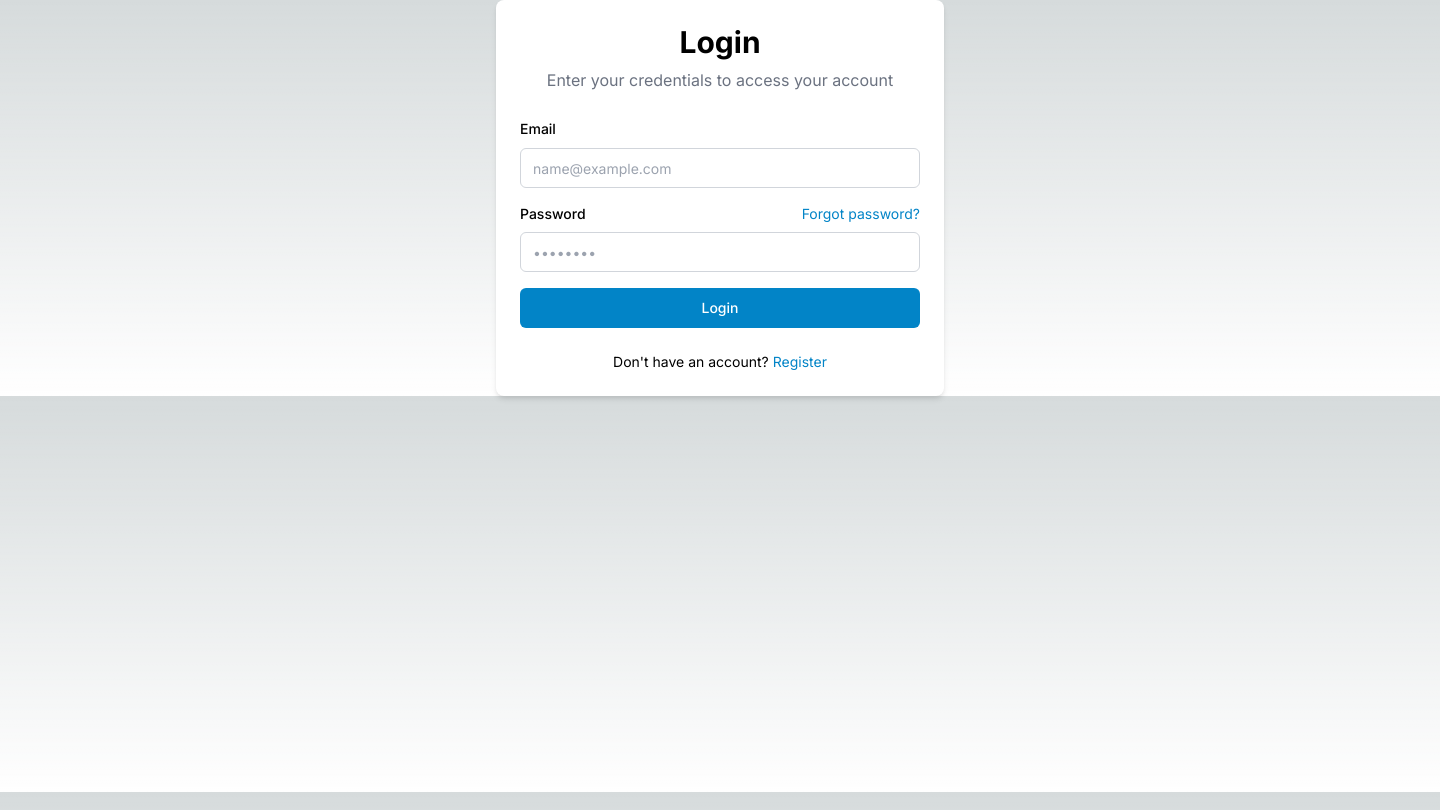
Test: LoginForm Component › displays an error message when login fails
The image size is (1440, 810).
// Fill in the form
Type "test@example.com" into the field labelled "Email" at (720, 168), box [520, 148, 920, 188]
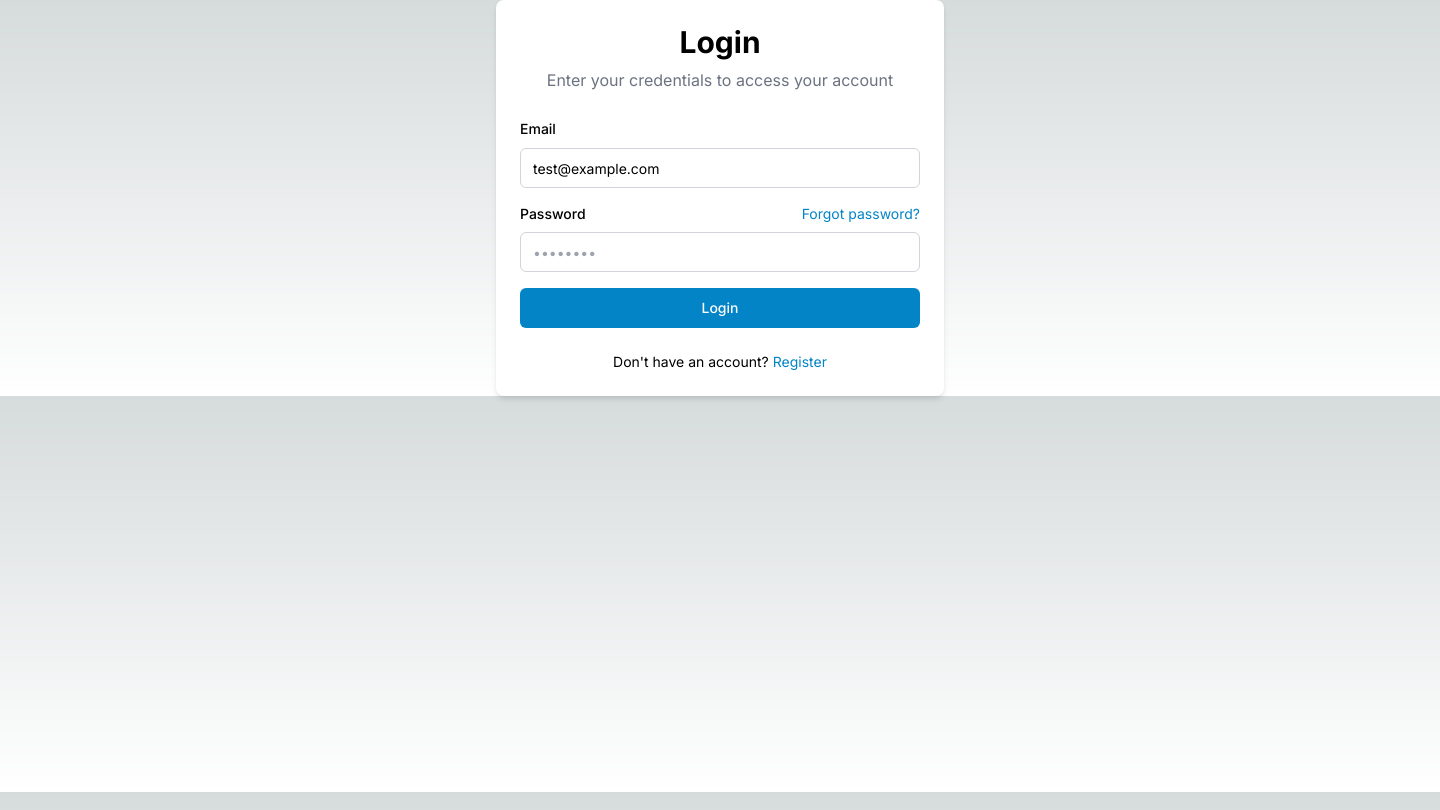
Type "wrongpassword" into the password field labelled "Password" at (720, 252), box [520, 232, 920, 272]
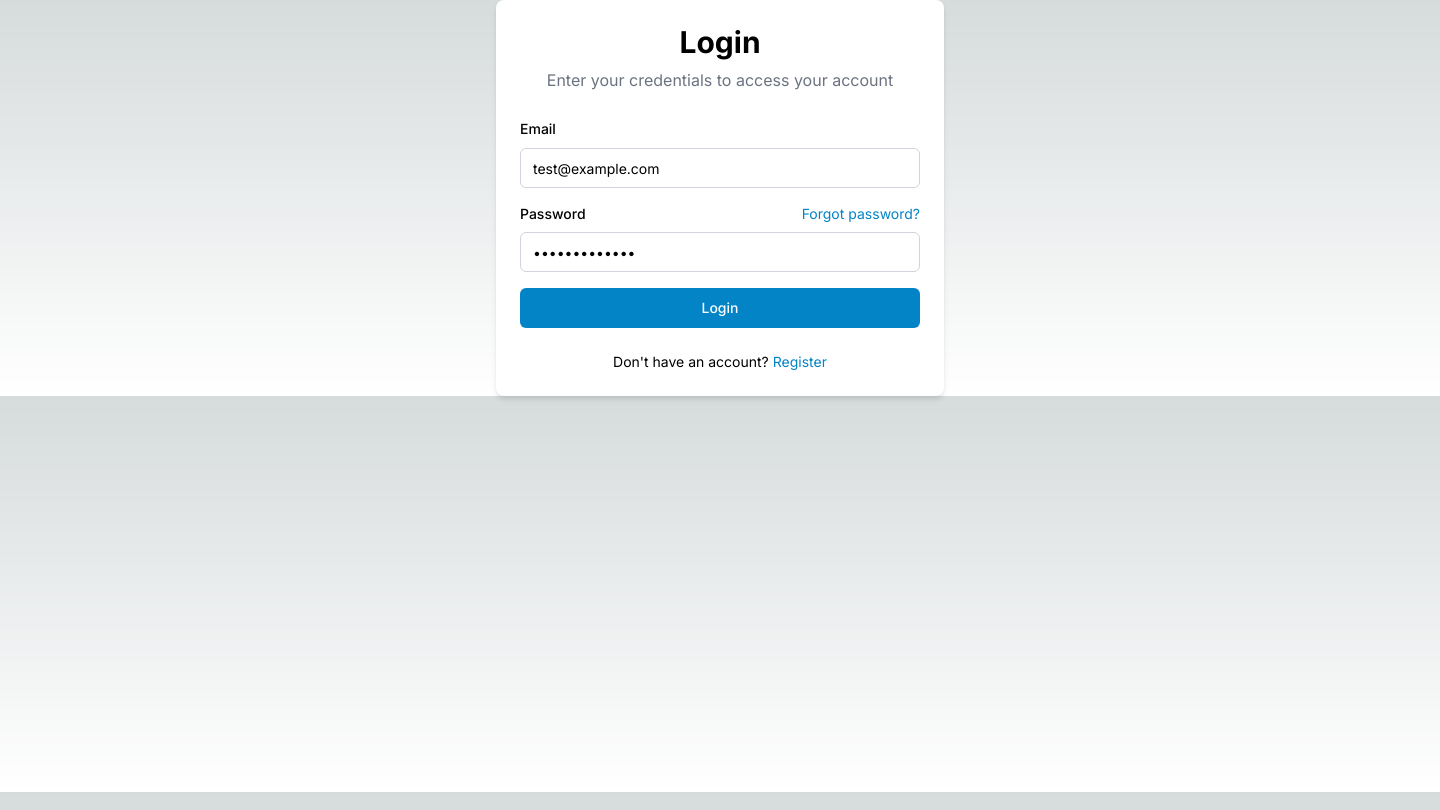
// Submit the form
Click the button "Login" at (720, 308), box [520, 288, 920, 328]
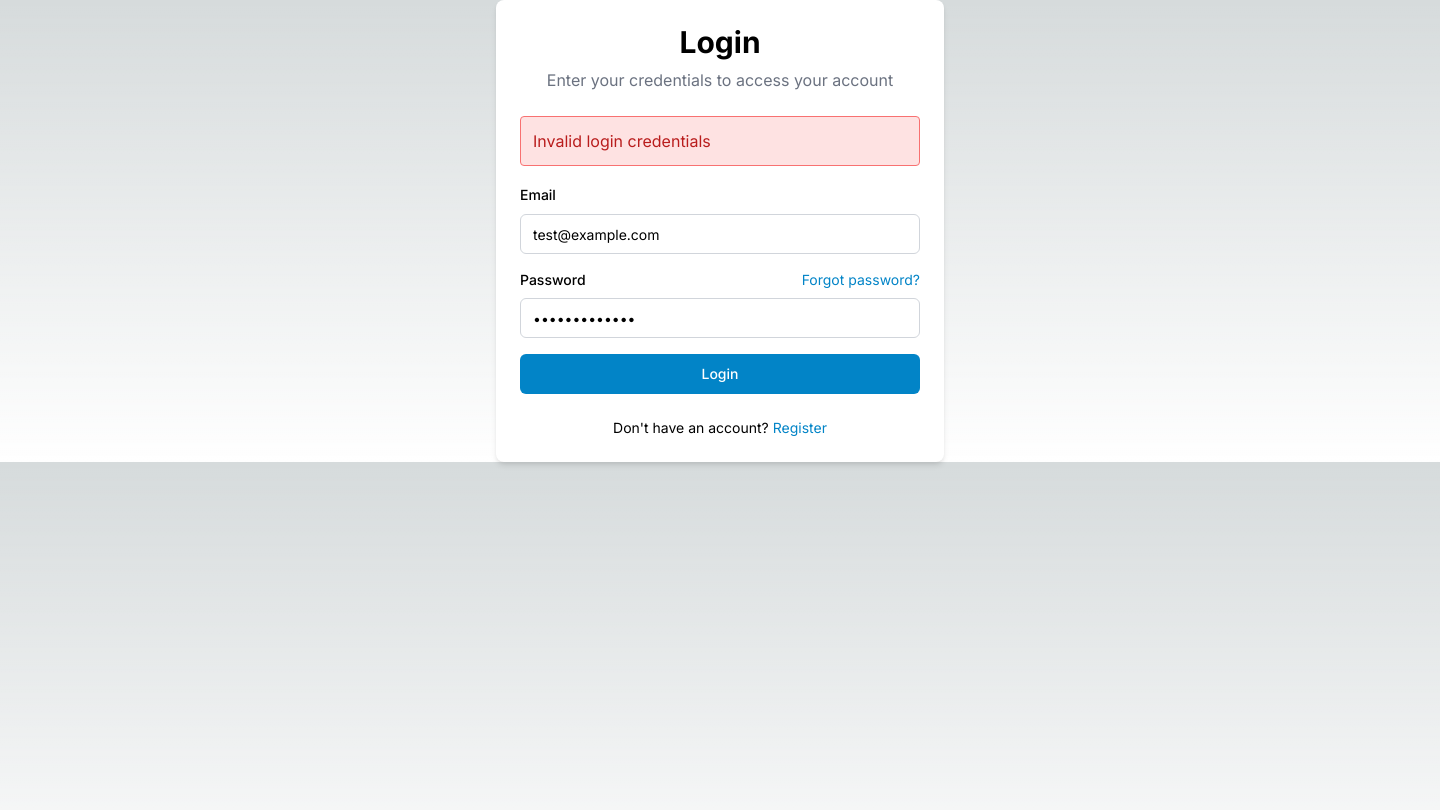
Expected: the button "Login" is shown, [520, 354, 920, 394]
Result: the text "Invalid login credentials" is shown at [520, 116, 920, 166]
